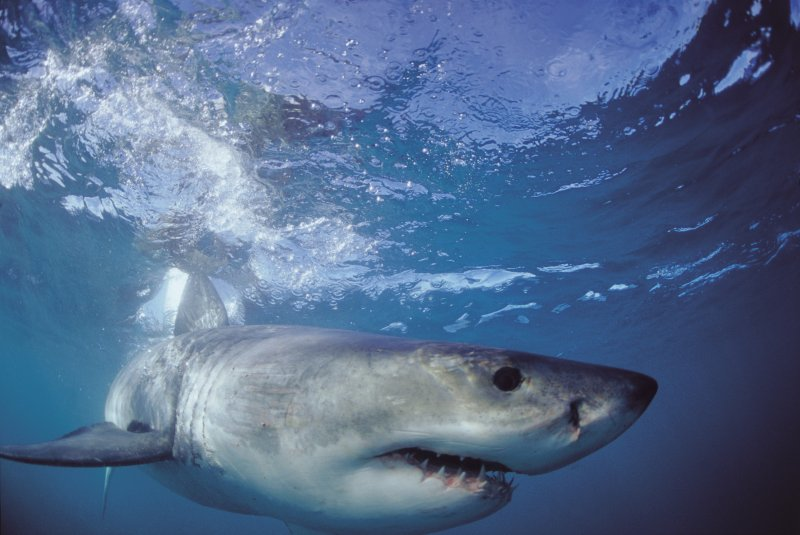Carcharodon_carcharias: (3, 279, 670, 535)
